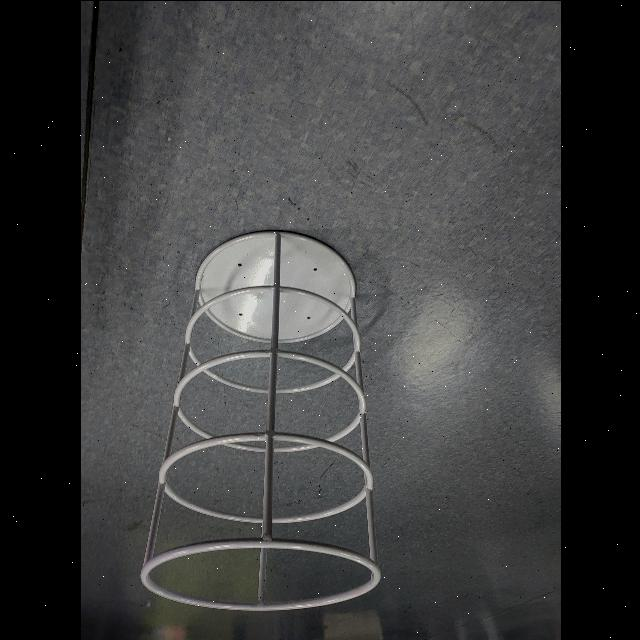S: (135, 222, 389, 614)
